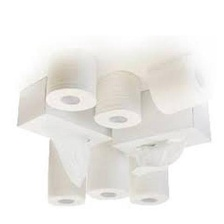book: (109, 87, 214, 158), (14, 73, 114, 145)
tissue: (146, 50, 216, 115), (42, 46, 100, 112), (91, 68, 144, 130), (83, 141, 134, 203), (45, 135, 87, 209), (47, 131, 95, 191), (126, 135, 190, 178), (125, 165, 172, 210)
